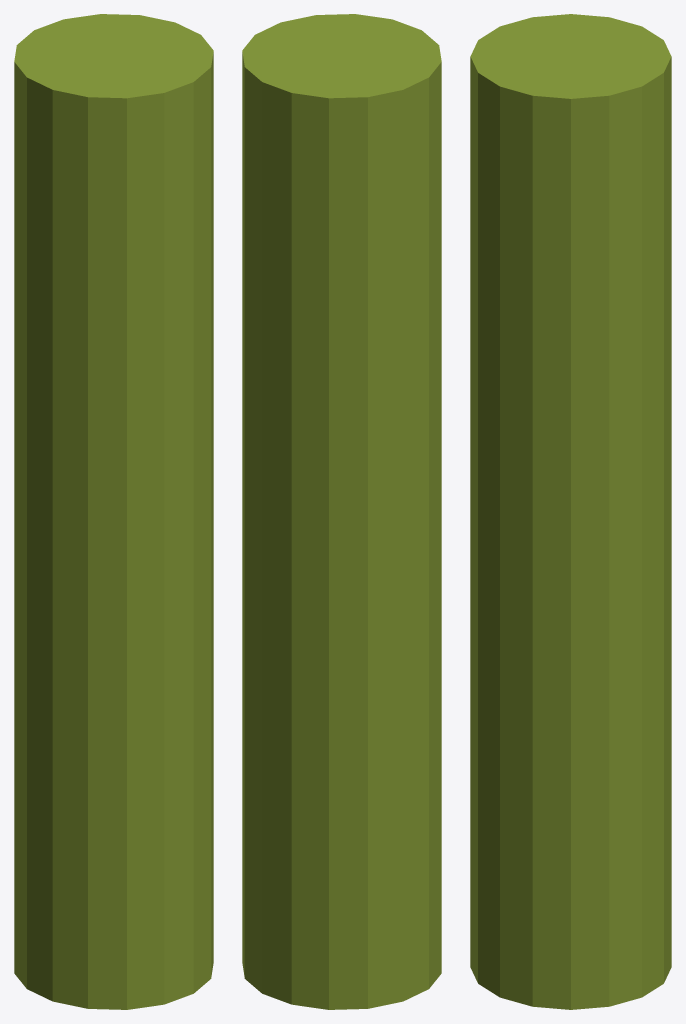
The model's file is m_rope.glb.
3 renders of one model, left to right at view 1: azimuth 30°, elevation 25°; view 2: azimuth 150°, elevation 25°; view 3: azimuth 270°, elevation 25°, orthographic.
Visible parts, largest first — view 1: Rope; view 2: Rope; view 3: Rope.
Boxes of the visible parts, <box> form: Rope: <box>14,14,213,1009</box>; Rope: <box>242,14,441,1009</box>; Rope: <box>470,14,671,1009</box>.
Size of the model in its own units: 0.4 by 2 by 0.4.
